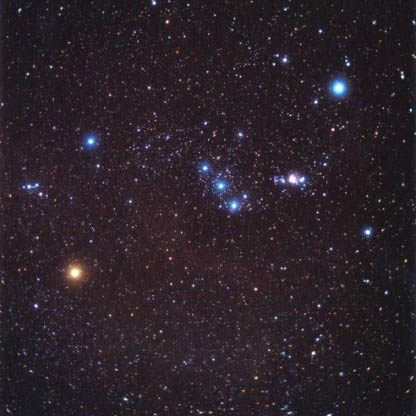Orion: (53, 259, 88, 294), (322, 71, 355, 103), (359, 217, 386, 250), (188, 154, 210, 175), (224, 197, 244, 219), (83, 132, 102, 154), (207, 177, 230, 195)
